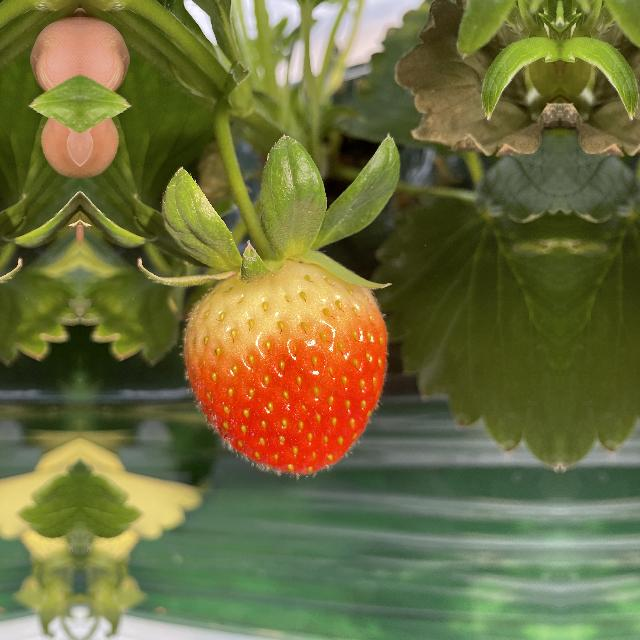Health_100: (175, 258, 397, 482)
